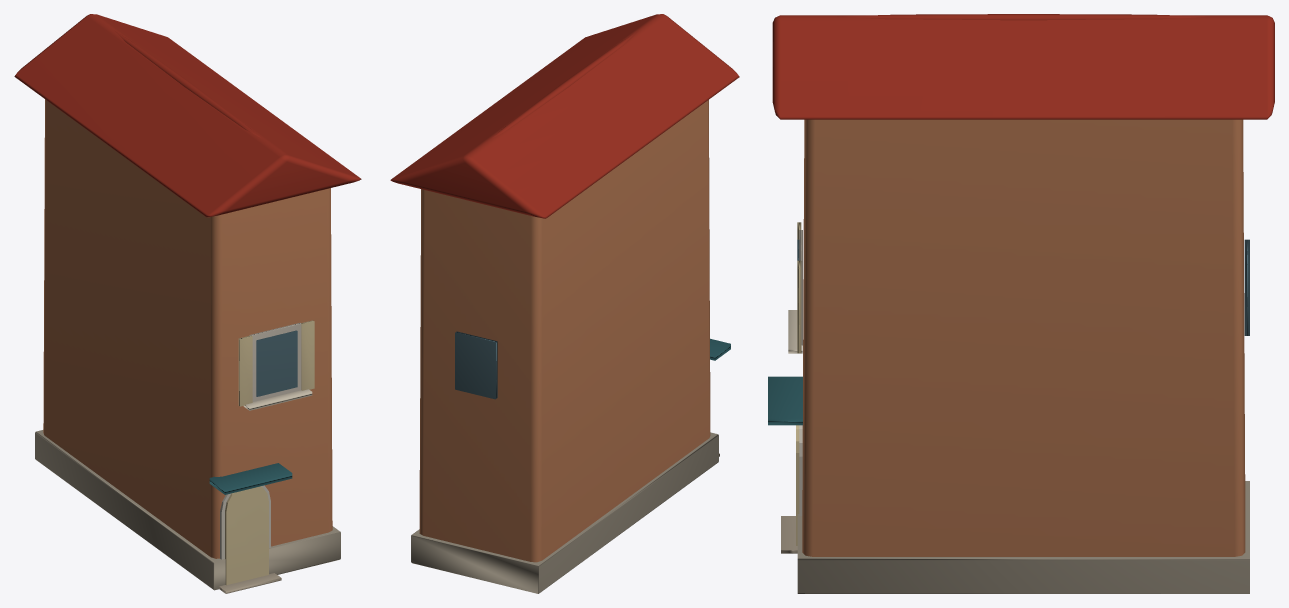
The model's file is house_17.glb.
3 renders of one model, left to right at view 1: azimuth 30°, elevation 25°; view 2: azimuth 150°, elevation 25°; view 3: azimuth 270°, elevation 25°, orthographic. The views are drawn at different scales.
Parts seen in each view (by area): view 1: house_17; view 2: house_17; view 3: house_17.
Boxes of the visible parts, bbox=[...] form: house_17: bbox=[14, 14, 361, 593]; house_17: bbox=[390, 14, 739, 593]; house_17: bbox=[768, 14, 1274, 593].
Size of the model in its own units: 3.47 by 9.14 by 7.73.
